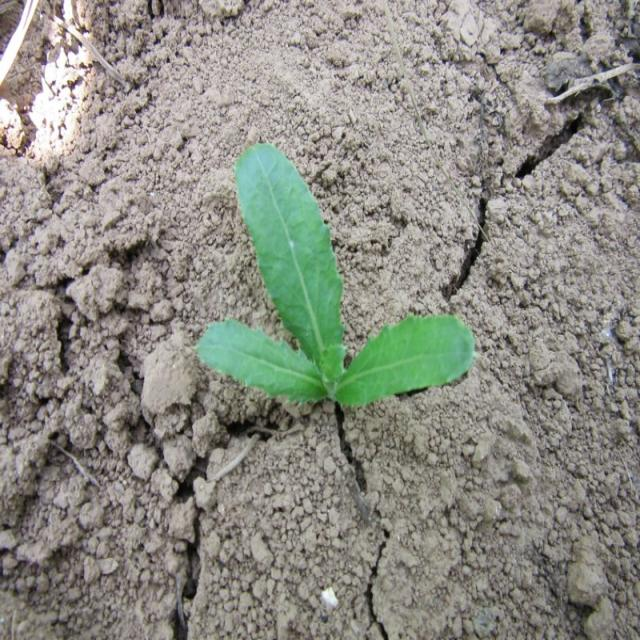field_thistle: (205, 132, 473, 422)
